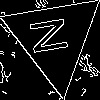N: (29, 14, 77, 57)
